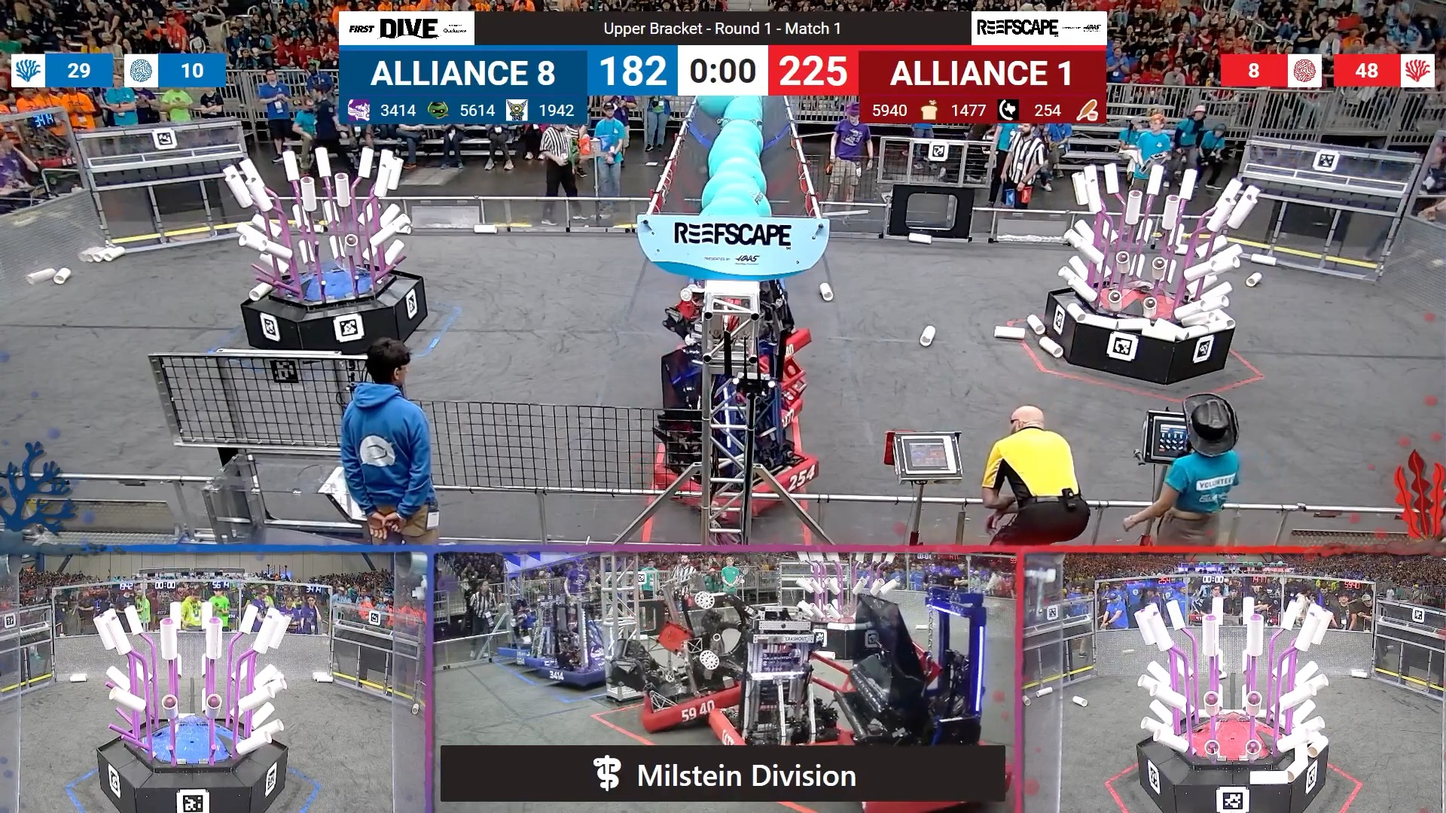bumpers: (644, 447, 821, 522), (706, 690, 852, 748), (639, 679, 748, 726), (519, 659, 625, 688), (767, 330, 825, 374)
